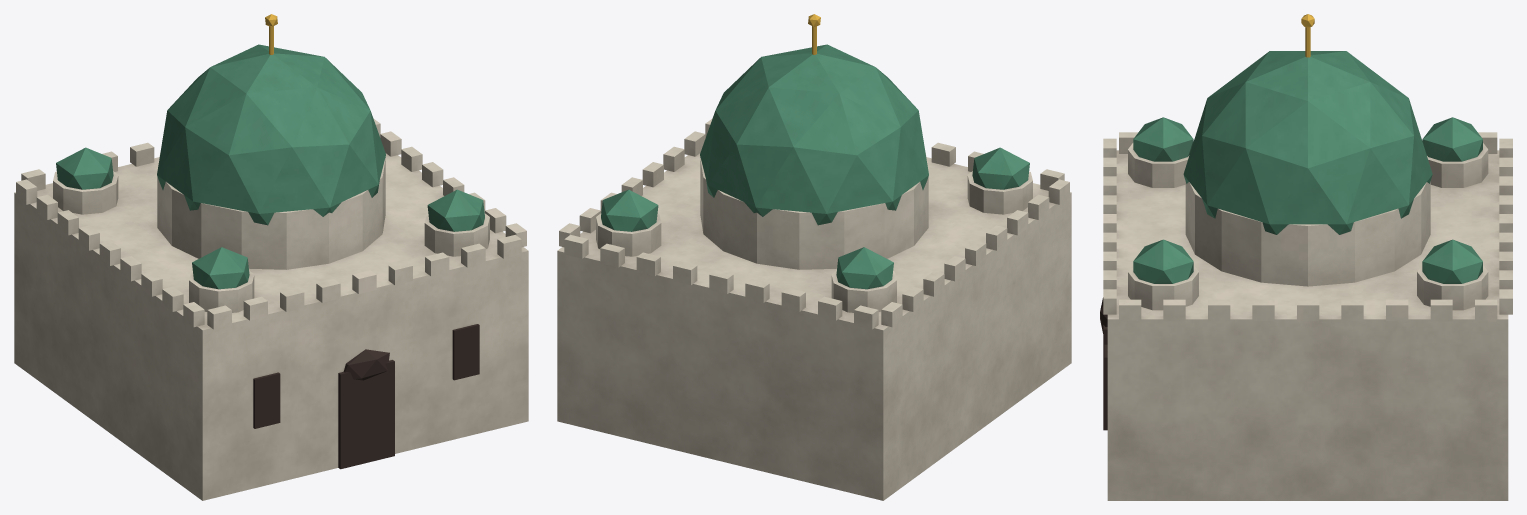
Rendered from moske_tex.glb.
3 renders of one model, left to right at view 1: azimuth 30°, elevation 25°; view 2: azimuth 150°, elevation 25°; view 3: azimuth 270°, elevation 25°, orthographic. The views are drawn at different scales.
Parts seen in each view (by area): view 1: moske; view 2: moske; view 3: moske.
Boxes of the visible parts, x1,y1,x2,y2 form: moske: (14,14,528,500); moske: (557,14,1071,500); moske: (1100,14,1512,500).
Size of the model in its own units: 18.4 by 19.95 by 18.54.
4 materials, 2 textured.
